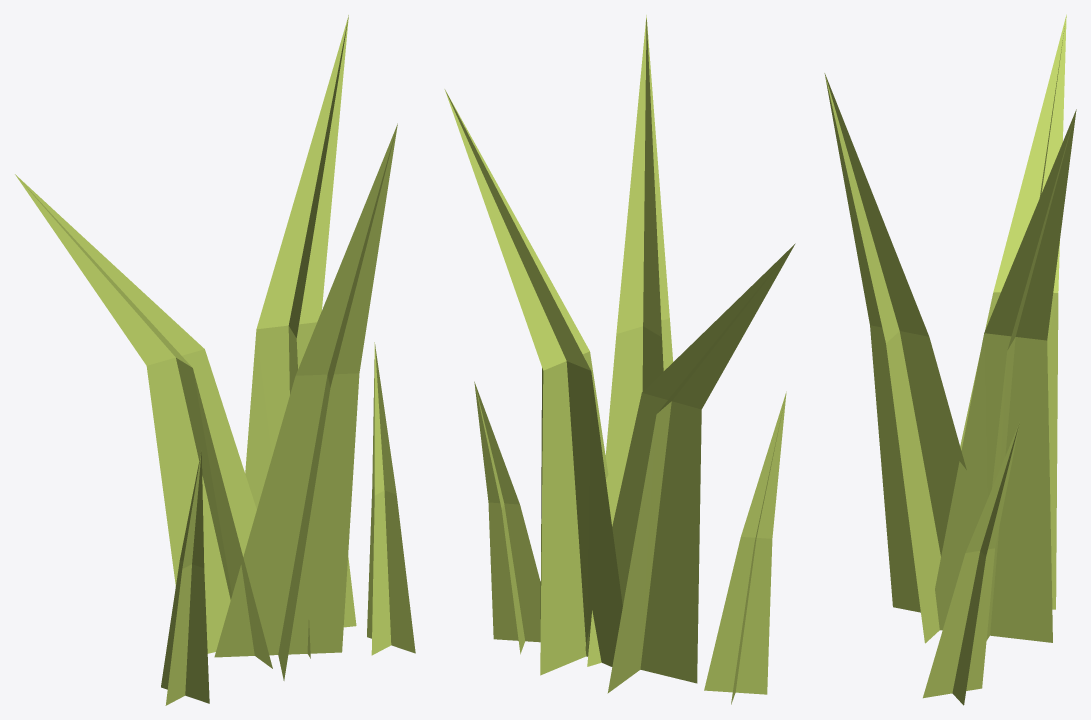
Rendered from Grass_Tuft.glb.
3 views of the same model, side by side, from view 1: azimuth 30°, elevation 25°; view 2: azimuth 150°, elevation 25°; view 3: azimuth 270°, elevation 25° (orthographic). The views are drawn at different scales.
Visible parts, largest first — view 1: Grass_Tuft; view 2: Grass_Tuft; view 3: Grass_Tuft.
Part boxes in pixels (x1,y1,x2,y2): Grass_Tuft: (15, 15, 415, 705); Grass_Tuft: (444, 15, 795, 704); Grass_Tuft: (824, 14, 1076, 705).
Size of the model in its own units: 1.04 by 1.68 by 0.6448.
